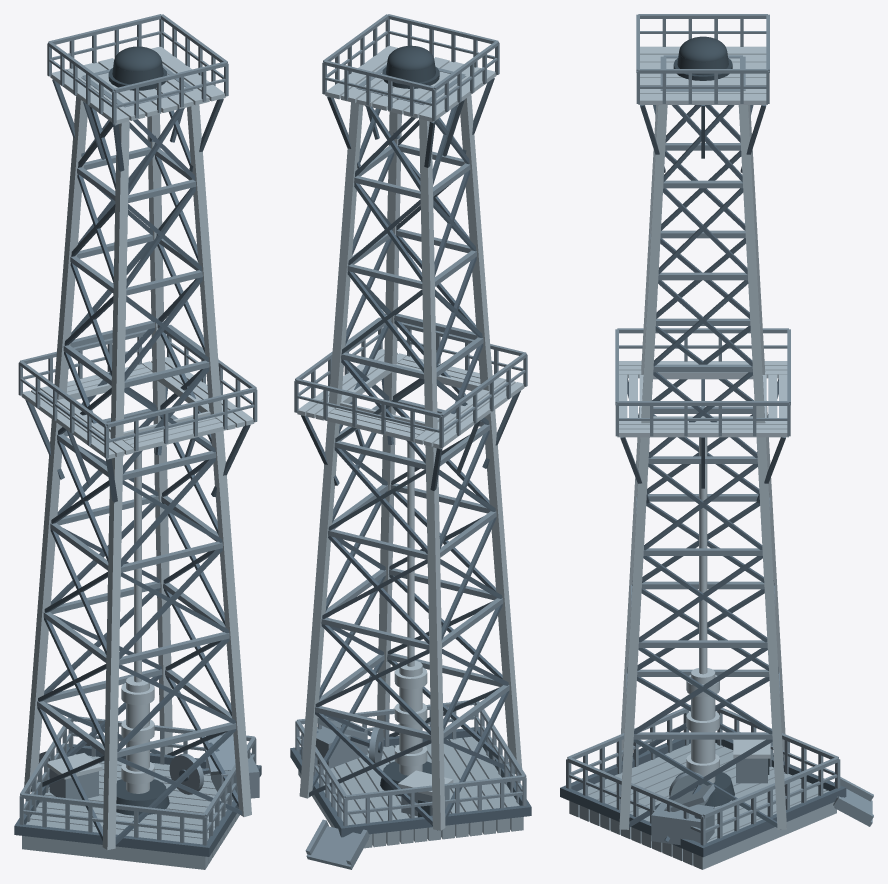
File: gasField.glb
The picture shows the model from 3 angles, left to right: view 1: azimuth 30°, elevation 25°; view 2: azimuth 150°, elevation 25°; view 3: azimuth 270°, elevation 25°; orthographic projection. The views are drawn at different scales.
Parts seen in each view (by area): view 1: truss_legs, truss_braces, truss_girts, deck_planks, platform_top_railing, platform_mid_railing, platform_mid_grating, deck_railing, rotary_stem, platform_top_grating, deck_kerb, winch_body (+6 smaller); view 2: truss_legs, truss_braces, truss_girts, deck_planks, deck_railing, platform_top_railing, platform_mid_grating, platform_mid_railing, rotary_stem, platform_top_grating, deck_kerb, ramp_slab (+6 smaller); view 3: truss_braces, truss_legs, truss_girts, deck_planks, deck_railing, platform_mid_grating, platform_top_grating, deck_kerb, rotary_stem, platform_mid_railing, platform_top_railing, winch_body (+5 smaller).
Boxes of the visible parts, x1,y1,x2,y2 form: truss_legs: (24,96,251,849); truss_braces: (31,106,242,849); truss_girts: (37,65,236,757); deck_planks: (22,754,239,869); platform_top_railing: (47,14,228,123); platform_mid_railing: (18,324,257,458); platform_mid_grating: (21,357,254,459); deck_railing: (19,716,256,845); rotary_stem: (121,452,154,793); platform_top_grating: (50,46,225,124); deck_kerb: (14,743,261,856); winch_body: (169,734,259,799); truss_legs: (299,95,522,830); truss_braces: (309,104,515,830); truss_girts: (315,64,509,740); deck_planks: (298,736,523,848); deck_railing: (295,700,526,826); platform_top_railing: (322,14,499,121); platform_mid_grating: (297,349,524,449); platform_mid_railing: (294,317,527,447); rotary_stem: (394,442,427,775); platform_top_grating: (325,45,496,122); deck_kerb: (290,726,531,837); ramp_slab: (305,819,369,869); truss_braces: (622,105,783,829); truss_legs: (619,105,786,829); truss_girts: (626,55,779,739); deck_planks: (569,743,836,869); deck_railing: (566,705,840,845); platform_mid_grating: (617,361,788,437); platform_top_grating: (638,46,767,104); deck_kerb: (560,739,846,857); rotary_stem: (686,437,719,783); platform_mid_railing: (615,328,790,436); platform_top_railing: (636,14,769,103); winch_body: (651,772,715,845).
Bounding box in the file's own units: 0.8509 × 2.55 × 0.9331.
